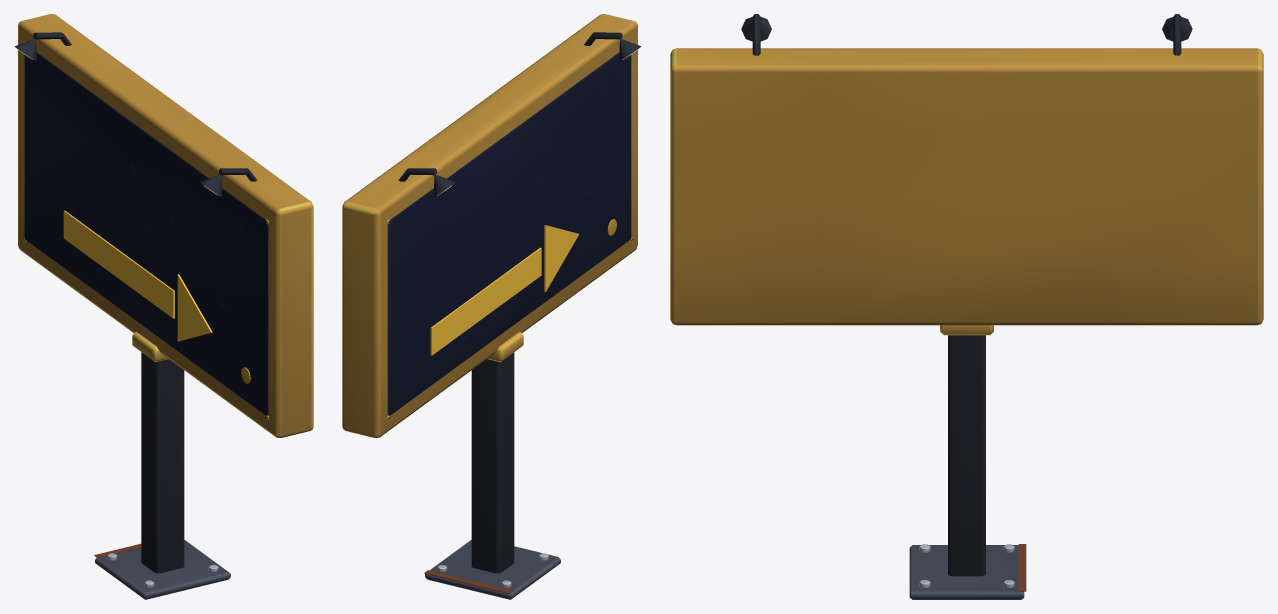
Rendered from SM_Studio_Stage4StreetSign.fbx.
The picture shows the model from 3 angles, left to right: view 1: azimuth 30°, elevation 25°; view 2: azimuth 150°, elevation 25°; view 3: azimuth 270°, elevation 25°; orthographic projection. The views are drawn at different scales.
Parts seen in each view (by area): view 1: SM_Studio_Stage4StreetSign; view 2: SM_Studio_Stage4StreetSign; view 3: SM_Studio_Stage4StreetSign.
Part boxes in pixels (left/top/right/bottom): SM_Studio_Stage4StreetSign: left=14, top=14, right=313, bottom=599; SM_Studio_Stage4StreetSign: left=342, top=14, right=641, bottom=599; SM_Studio_Stage4StreetSign: left=670, top=14, right=1263, bottom=599.
Bounding box in the file's own units: 66.76 × 318 × 310.
